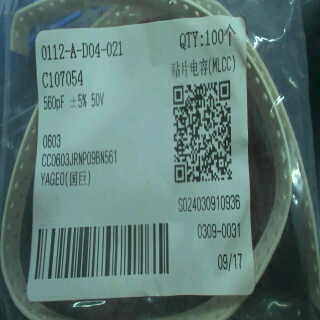560pF: (41, 91, 66, 113)
